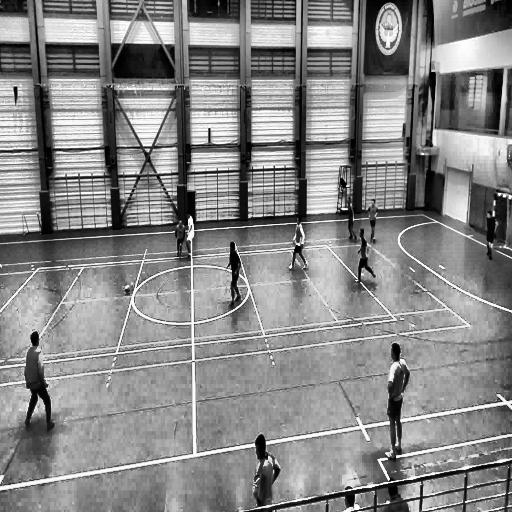ball: (125, 284, 130, 293)
player: (23, 328, 58, 430), (383, 342, 407, 461), (253, 435, 280, 512), (286, 216, 308, 272), (356, 227, 376, 283), (226, 240, 242, 307), (486, 209, 500, 258), (368, 199, 378, 242), (348, 199, 358, 241), (176, 218, 186, 259), (186, 212, 194, 260)
